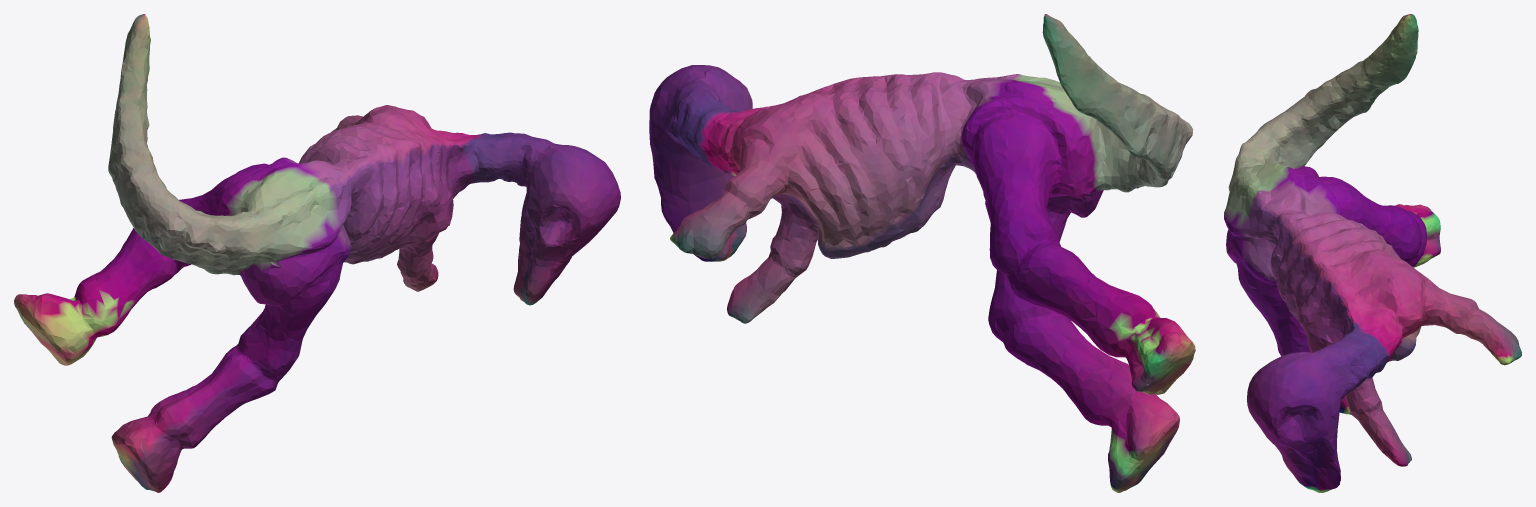
Rendered from dino_skel-7.off.obj.
3 renders of one model, left to right at view 1: azimuth 30°, elevation 25°; view 2: azimuth 150°, elevation 25°; view 3: azimuth 270°, elevation 25°, orthographic. The views are drawn at different scales.
Size of the model in its own units: 1.67 by 1.32 by 0.8588.
